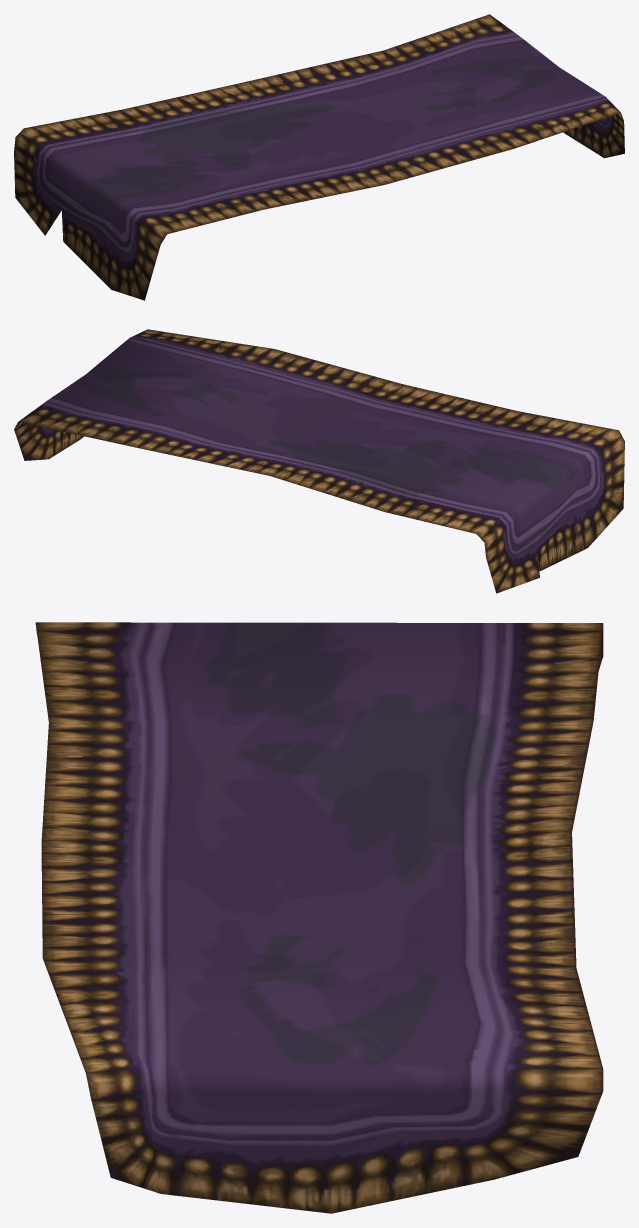
Rendered from SM_PROP_rug_interior_04.fbx.
3 views of the same model, one above another, from view 1: azimuth 30°, elevation 25°; view 2: azimuth 150°, elevation 25°; view 3: azimuth 270°, elevation 25° (orthographic). The views are drawn at different scales.
Visible parts, largest first — view 1: SM_PROP_rug_interior_04; view 2: SM_PROP_rug_interior_04; view 3: SM_PROP_rug_interior_04.
Boxes of the visible parts, x1,y1,x2,y2 form: SM_PROP_rug_interior_04: (14,14,624,300); SM_PROP_rug_interior_04: (14,329,624,593); SM_PROP_rug_interior_04: (35,622,603,1213).
Size of the model in its own units: 185 by 30.57 by 92.74.
